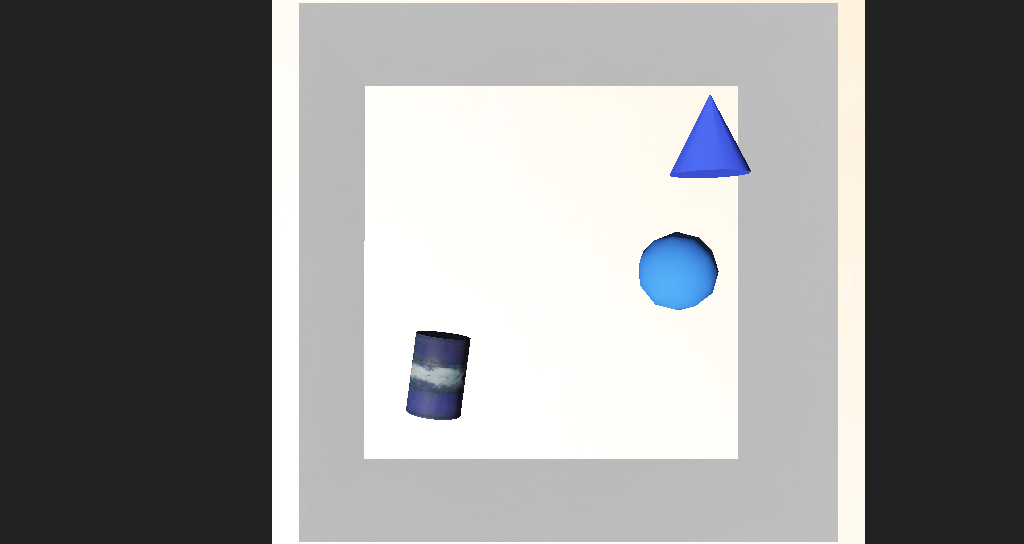cone: (387, 303, 448, 356)
cylinder: (600, 165, 667, 217)
sphere: (576, 243, 637, 291)
